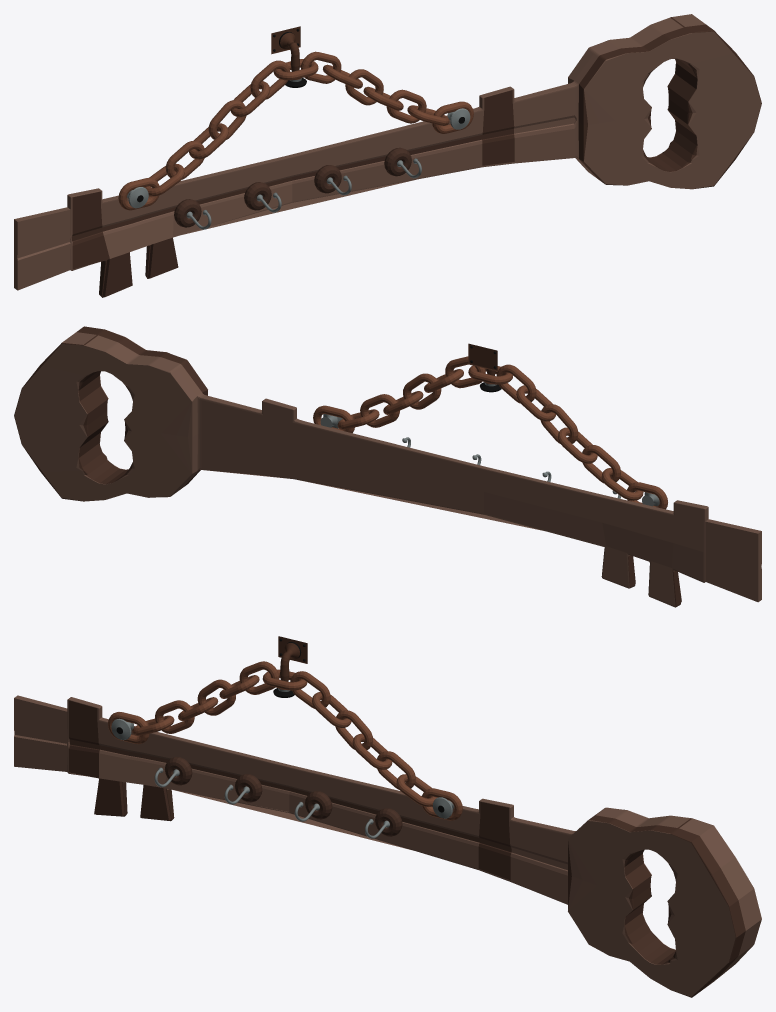
The model's file is KeyRackModel.fbx.
The picture shows the model from 3 angles, top to bottom: view 1: azimuth 30°, elevation 25°; view 2: azimuth 150°, elevation 25°; view 3: azimuth 330°, elevation 25°; orthographic projection.
Parts seen in each view (by area): view 1: KeyRack; view 2: KeyRack; view 3: KeyRack.
Boxes of the visible parts, x1=… form: KeyRack: x1=14, y1=14, x2=761, y2=297; KeyRack: x1=14, y1=326, x2=761, y2=607; KeyRack: x1=14, y1=636, x2=761, y2=997.
Bounding box in the file's own units: 5066 × 1629 × 488.
